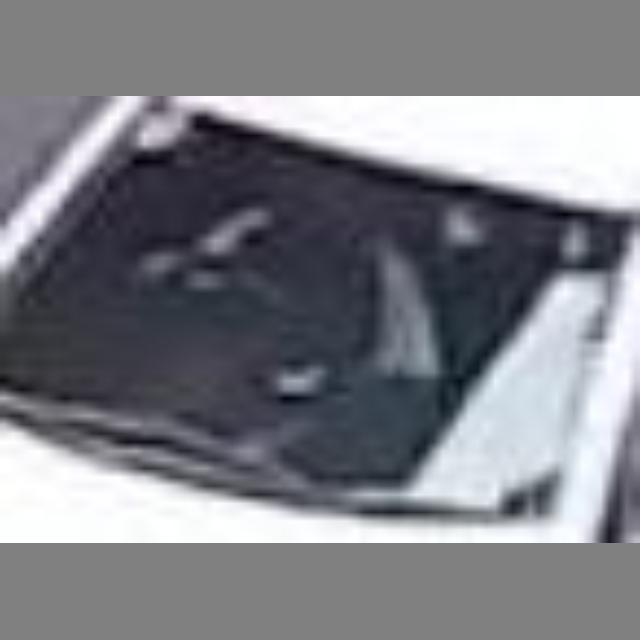tidak-pakai: (193, 175, 421, 429)
